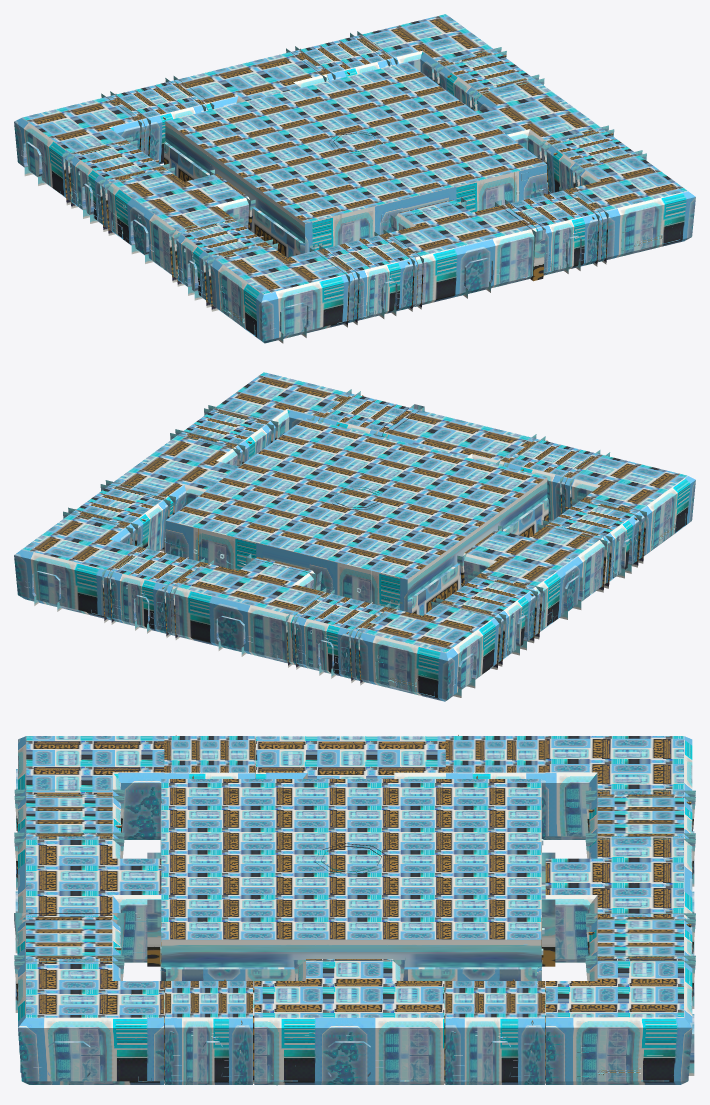
File: Combined_Mesh_root_scene__16_1995fef1__ZombiesII_laboratory_10_a_1fa57b93_c1f257.obj
The picture shows the model from 3 angles, top to bottom: view 1: azimuth 30°, elevation 25°; view 2: azimuth 150°, elevation 25°; view 3: azimuth 270°, elevation 25°; orthographic projection. The views are drawn at different scales.
Bounding box in the file's own units: 72.61 × 10.34 × 71.75.
Materials: 726 (726 with a texture image).
